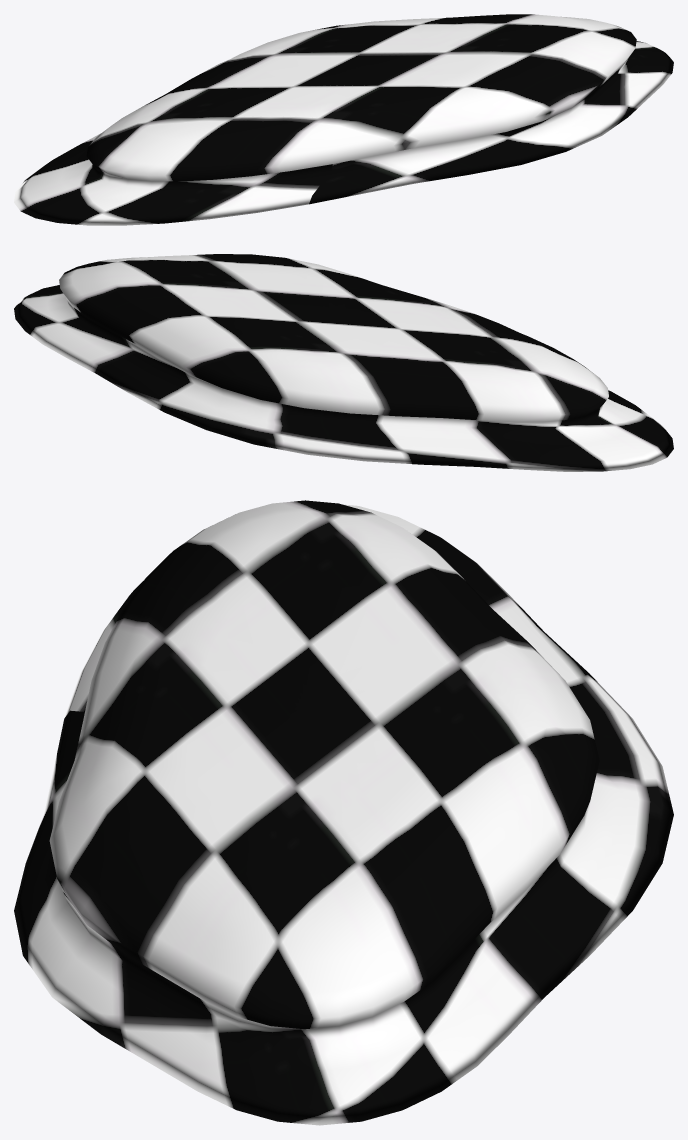
Rendered from Sanddune2.fbx.
3 renders of one model, top to bottom at view 1: azimuth 30°, elevation 25°; view 2: azimuth 150°, elevation 25°; view 3: azimuth 270°, elevation 25°, orthographic. The views are drawn at different scales.
Parts seen in each view (by area): view 1: pCylinder3; view 2: pCylinder3; view 3: pCylinder3.
Boxes of the visible parts, x1,y1,x2,y2 form: pCylinder3: [14, 14, 673, 225]; pCylinder3: [14, 254, 673, 471]; pCylinder3: [14, 500, 673, 1125].
Bounding box in the file's own units: 4.52 × 0.4479 × 2.03.
